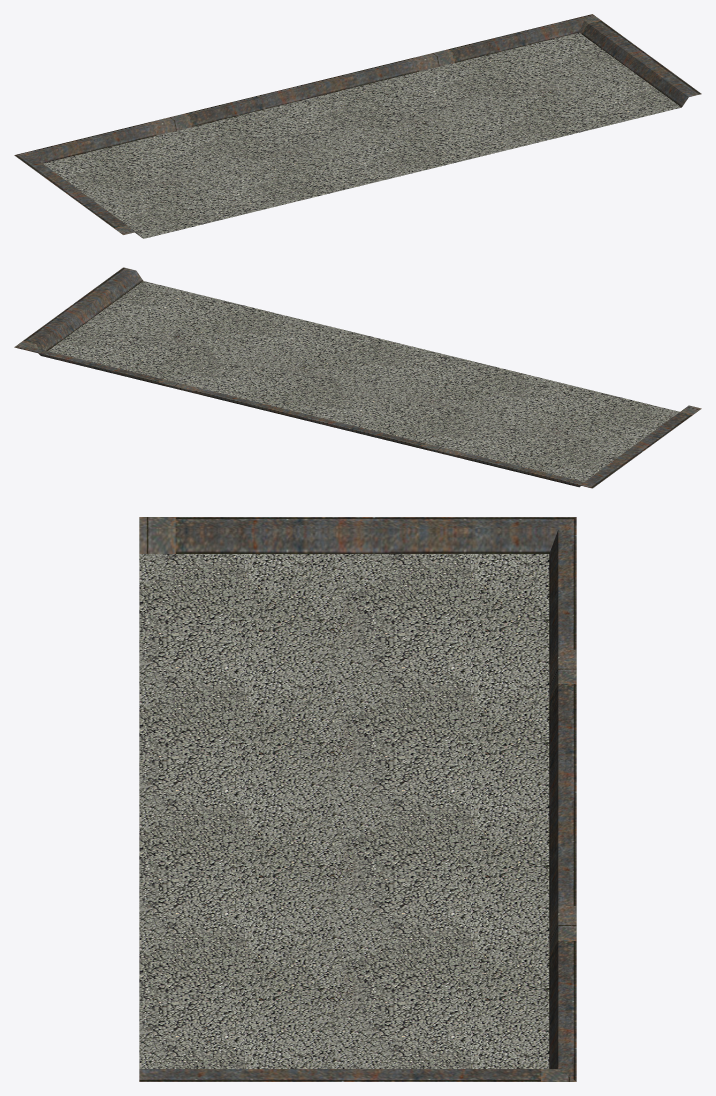
The model's file is Building_05_Roof.fbx.
3 views of the same model, one above another, from view 1: azimuth 30°, elevation 25°; view 2: azimuth 150°, elevation 25°; view 3: azimuth 270°, elevation 25° (orthographic). The views are drawn at different scales.
Parts seen in each view (by area): view 1: Building_05_Roof; view 2: Building_05_Roof; view 3: Building_05_Roof.
Part boxes in pixels (x1,y1,x2,y2): Building_05_Roof: (14,14,701,238); Building_05_Roof: (14,267,701,488); Building_05_Roof: (139,517,576,1081).
Bounding box in the file's own units: 897 × 12.78 × 294.
